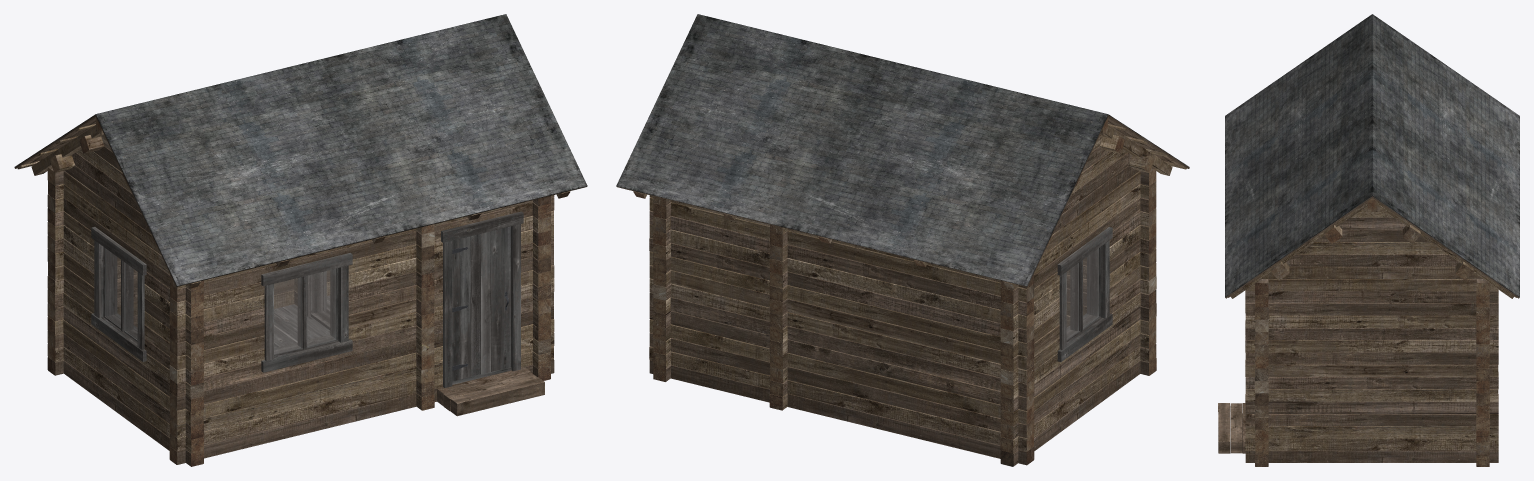
The model's file is log_cabin.glb.
3 renders of one model, left to right at view 1: azimuth 30°, elevation 25°; view 2: azimuth 150°, elevation 25°; view 3: azimuth 270°, elevation 25°, orthographic. The views are drawn at different scales.
Visible parts, largest first — view 1: Base, Door; view 2: Base; view 3: Base.
Part boxes in pixels (bbox=[...]): Base: bbox=[14, 14, 587, 466]; Door: bbox=[452, 226, 510, 381]; Base: bbox=[616, 14, 1189, 466]; Base: bbox=[1218, 14, 1519, 466].
Bounding box in the file's own units: 514 × 368 × 361.
Materials: 7 (7 with a texture image).
